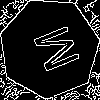M: (24, 23, 81, 78)
